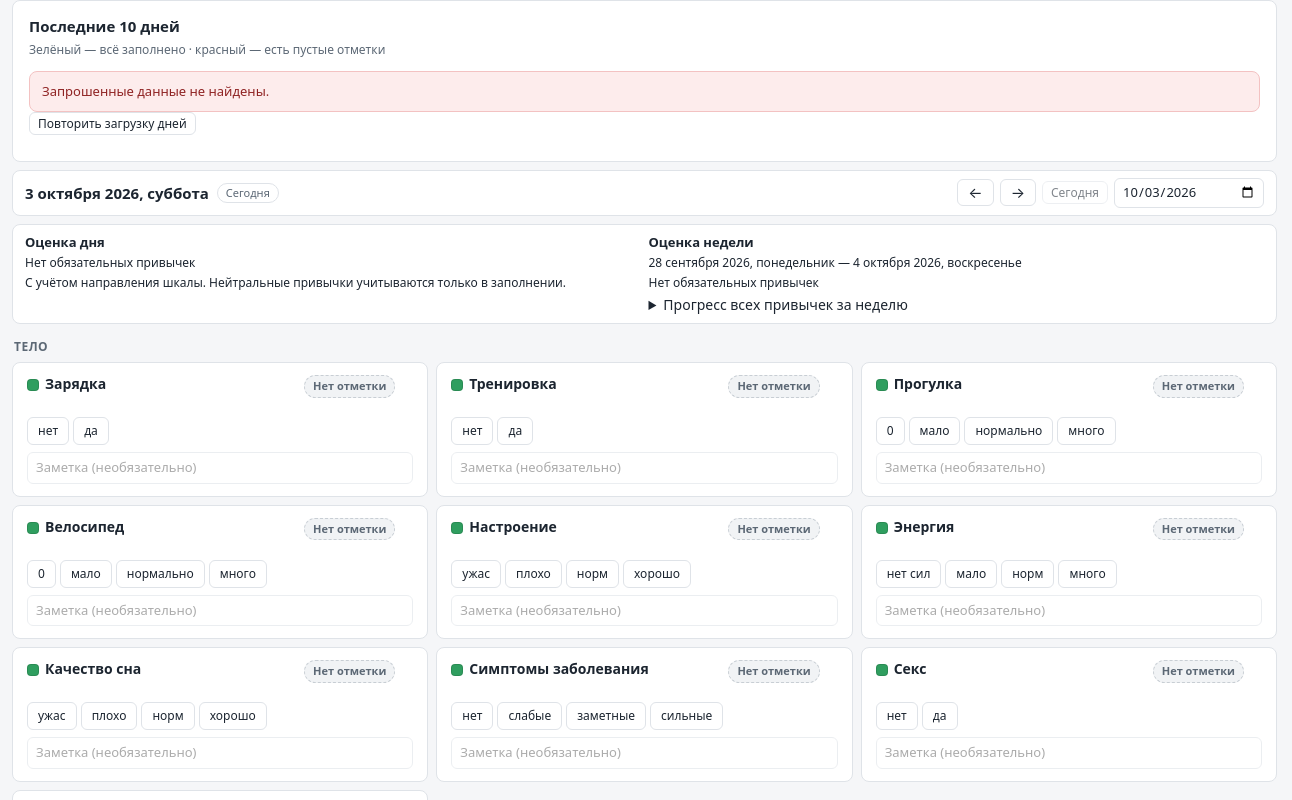
CheckInPage — the day’s habits › clears an answer back to «Нет отметки»
Check: the text "Прогулка" is shown, box [894,374,962,393]
Click the button "мало" below "Прогулка".
click(934, 431)  # box [908,417,960,445]
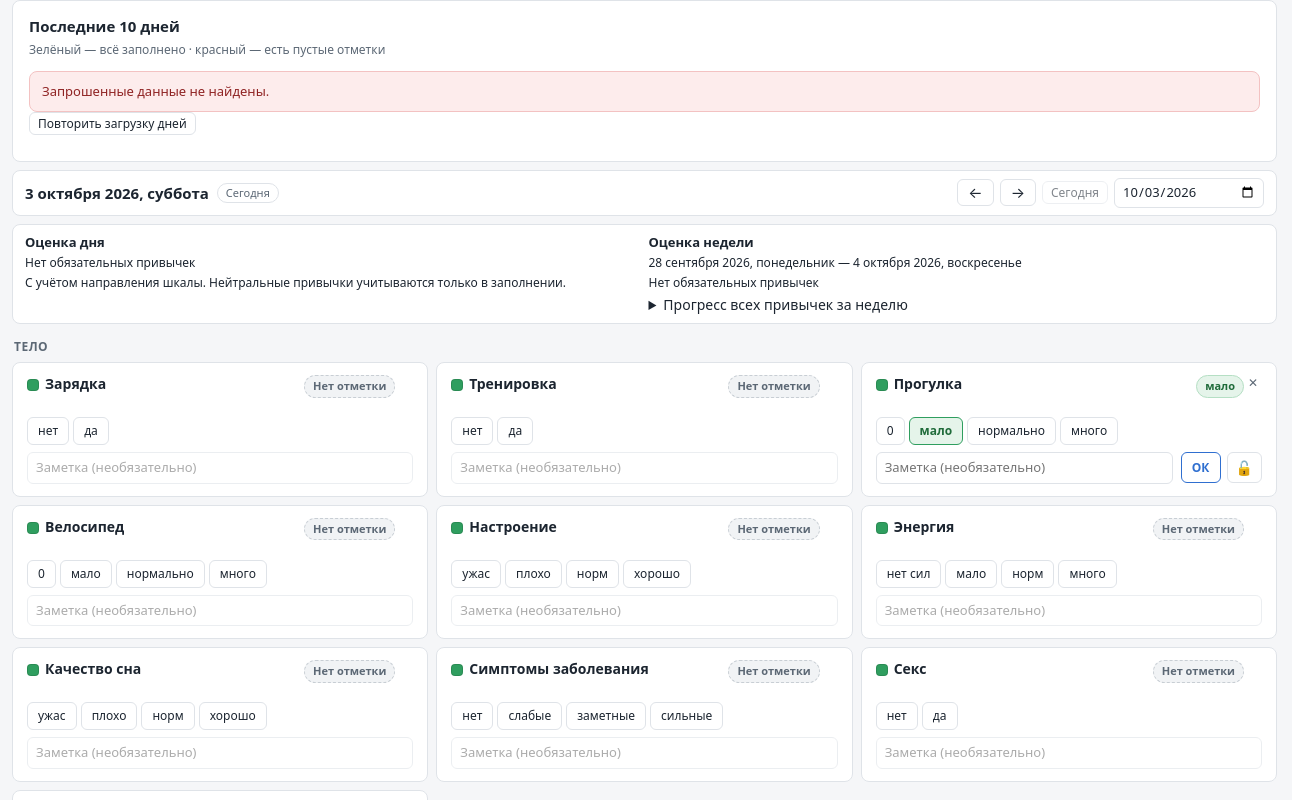
Click the button named "Убрать отметку".
click(1253, 383)  # box [1244,375,1262,391]
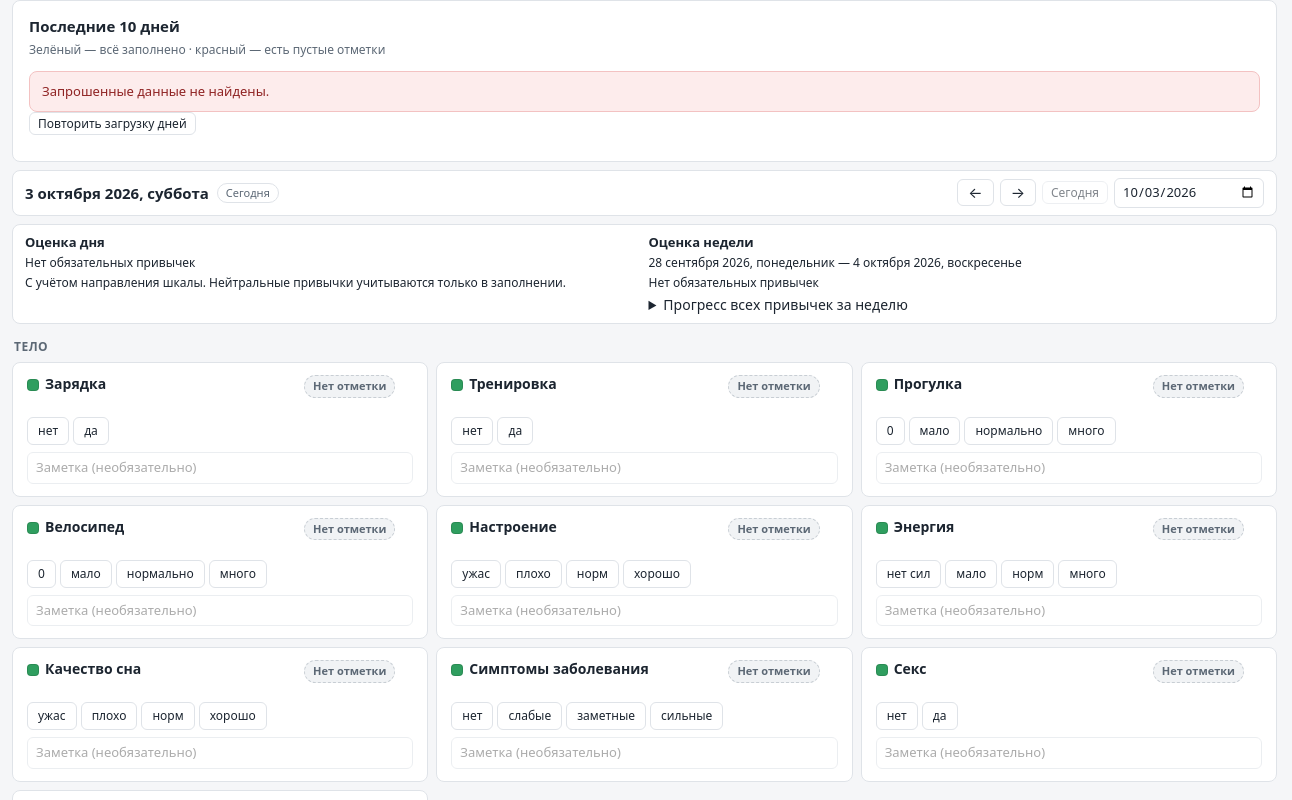
Check: the message "Нет отметки" in the row of "Прогулка" is shown, box [1162,378,1235,393]
